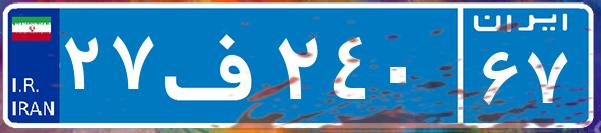0: (385, 28, 445, 110)
2: (273, 28, 330, 110), (57, 26, 110, 107)
4: (330, 28, 385, 110)
6: (475, 38, 525, 113)
7: (110, 28, 158, 105), (525, 38, 570, 115)
ف: (158, 15, 273, 115)
